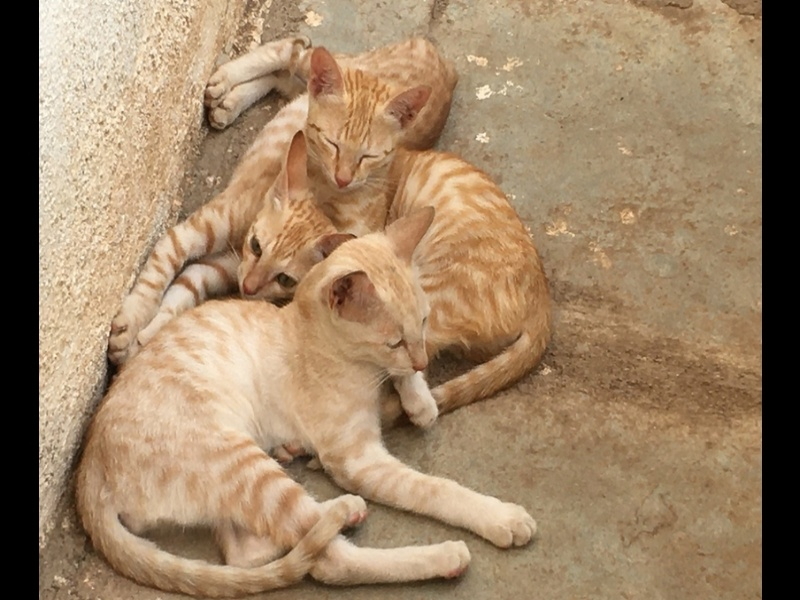cat: (75, 204, 536, 591), (116, 29, 453, 333), (243, 137, 549, 399)
